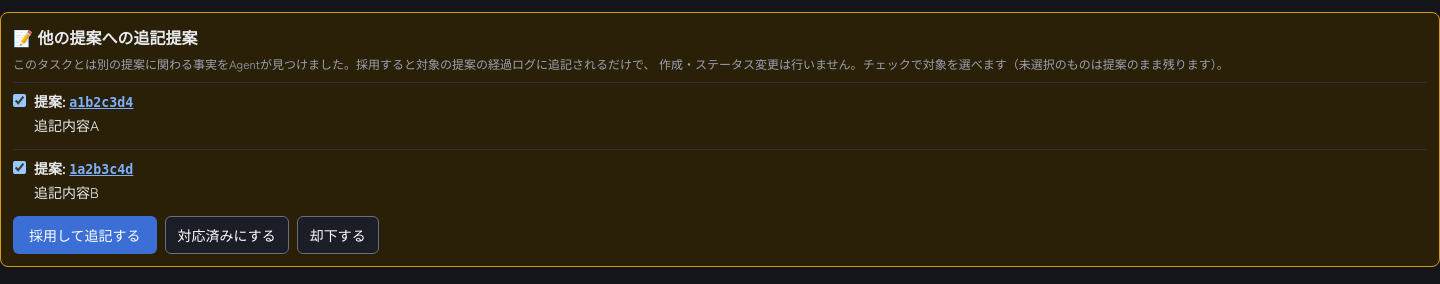
Test: SuggestedSuggestionNotesBlock › 選択が無いと各ボタンはdisabledになる
Click the checkbox labelled "提案: a1b2c3d4 追記内容A" at point(20, 100), box [13, 94, 26, 107]
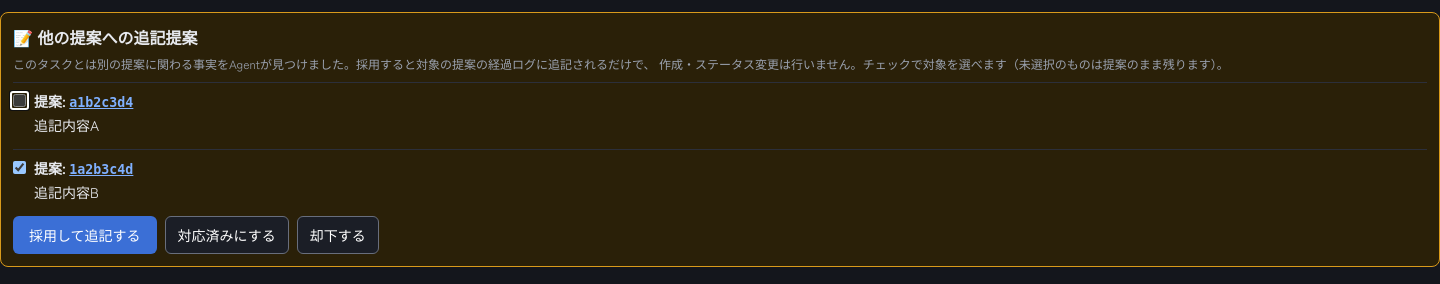
Click the checkbox labelled "提案: 1a2b3c4d 追記内容B" at point(20, 168), box [13, 161, 26, 174]
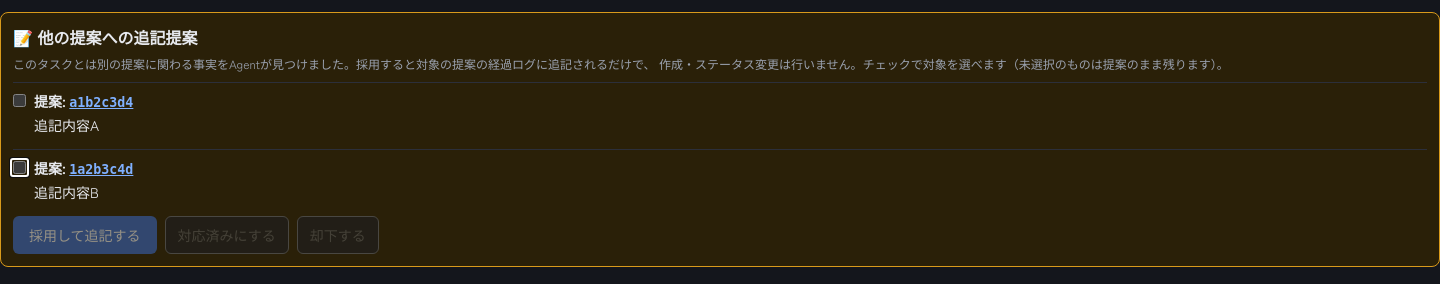
expect the button "採用して追記する" is disabled: met, box [13, 216, 157, 254]
expect the button "対応済みにする" is disabled: met, box [165, 216, 289, 254]
expect the button "却下する" is disabled: met, box [297, 216, 379, 254]
